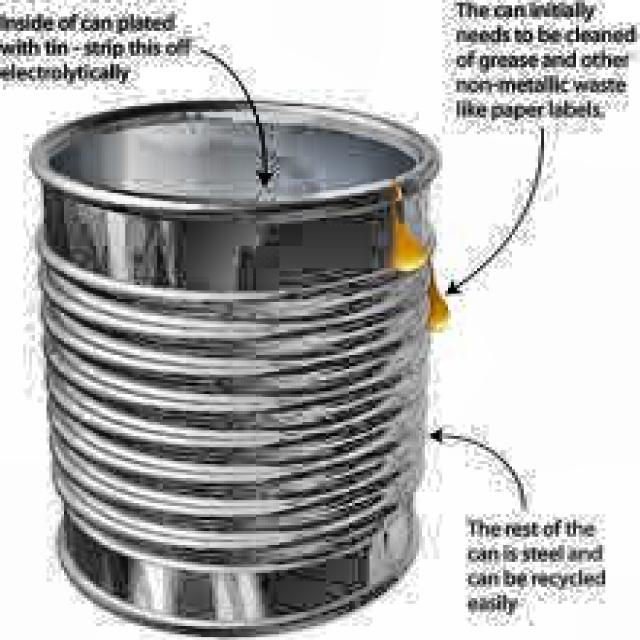can: (22, 89, 449, 638)
